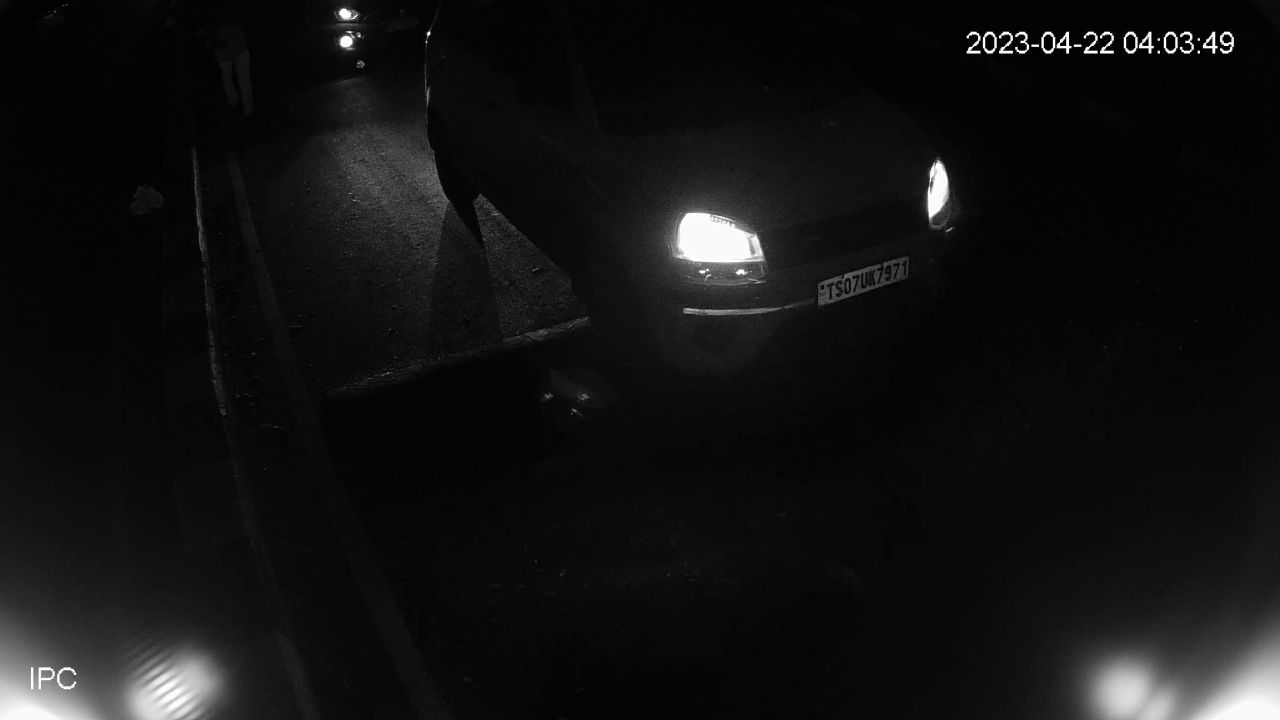license_plate: (813, 252, 917, 312)
